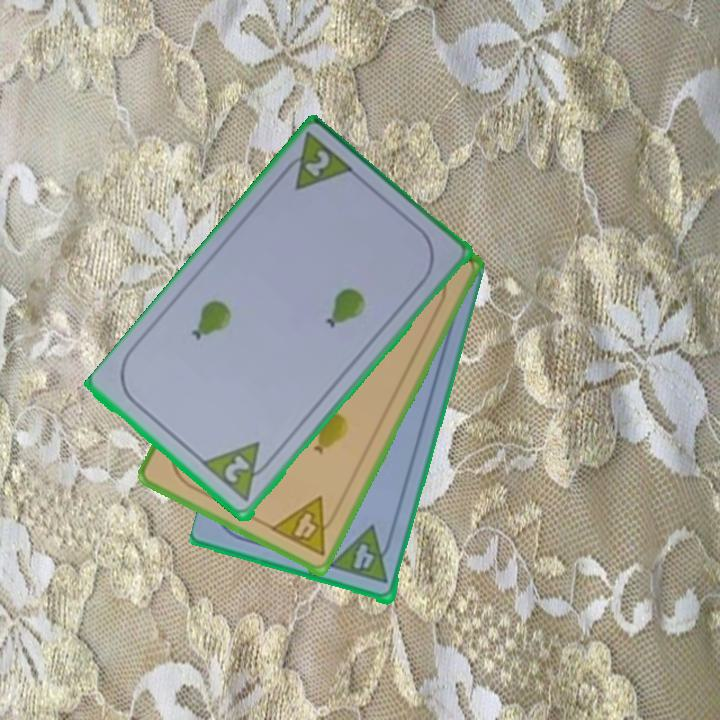2p: (275, 130, 358, 195), (220, 452, 253, 487)
4p: (267, 494, 343, 560), (327, 523, 398, 588)
